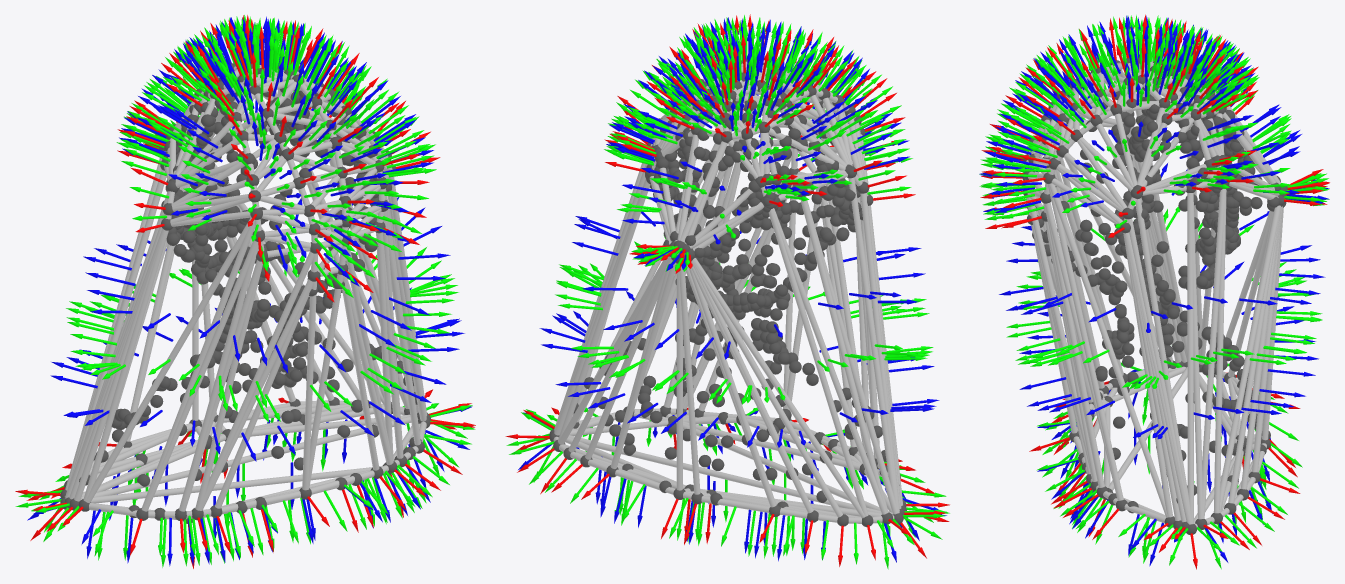
Rendered from author1_bust.gltf.
3 views of the same model, side by side, from view 1: azimuth 30°, elevation 25°; view 2: azimuth 150°, elevation 25°; view 3: azimuth 270°, elevation 25° (orthographic). The views are drawn at different scales.
Size of the model in its own units: 0.7731 by 0.8287 by 0.567.
